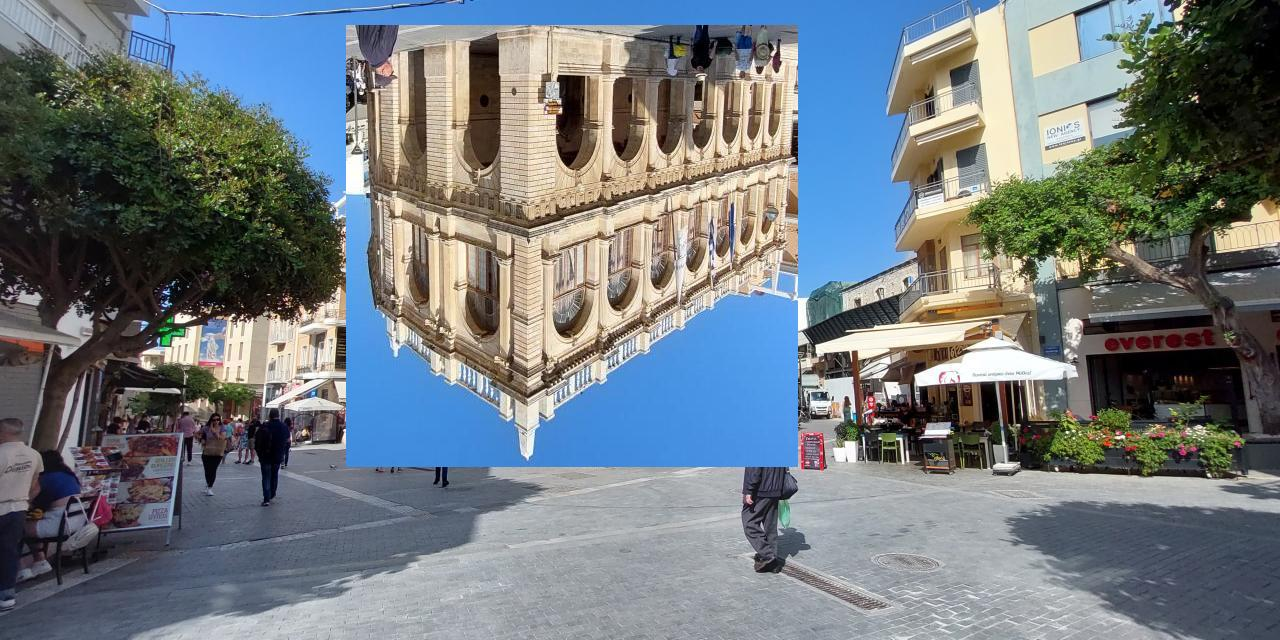Loggia: (347, 26, 799, 468)
